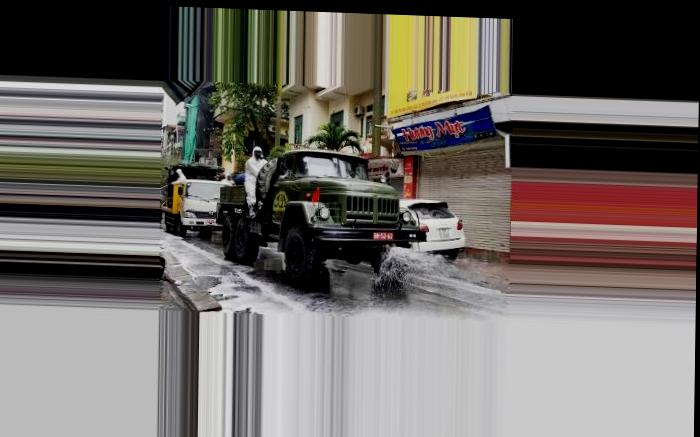License_Plate: (370, 230, 395, 244)
